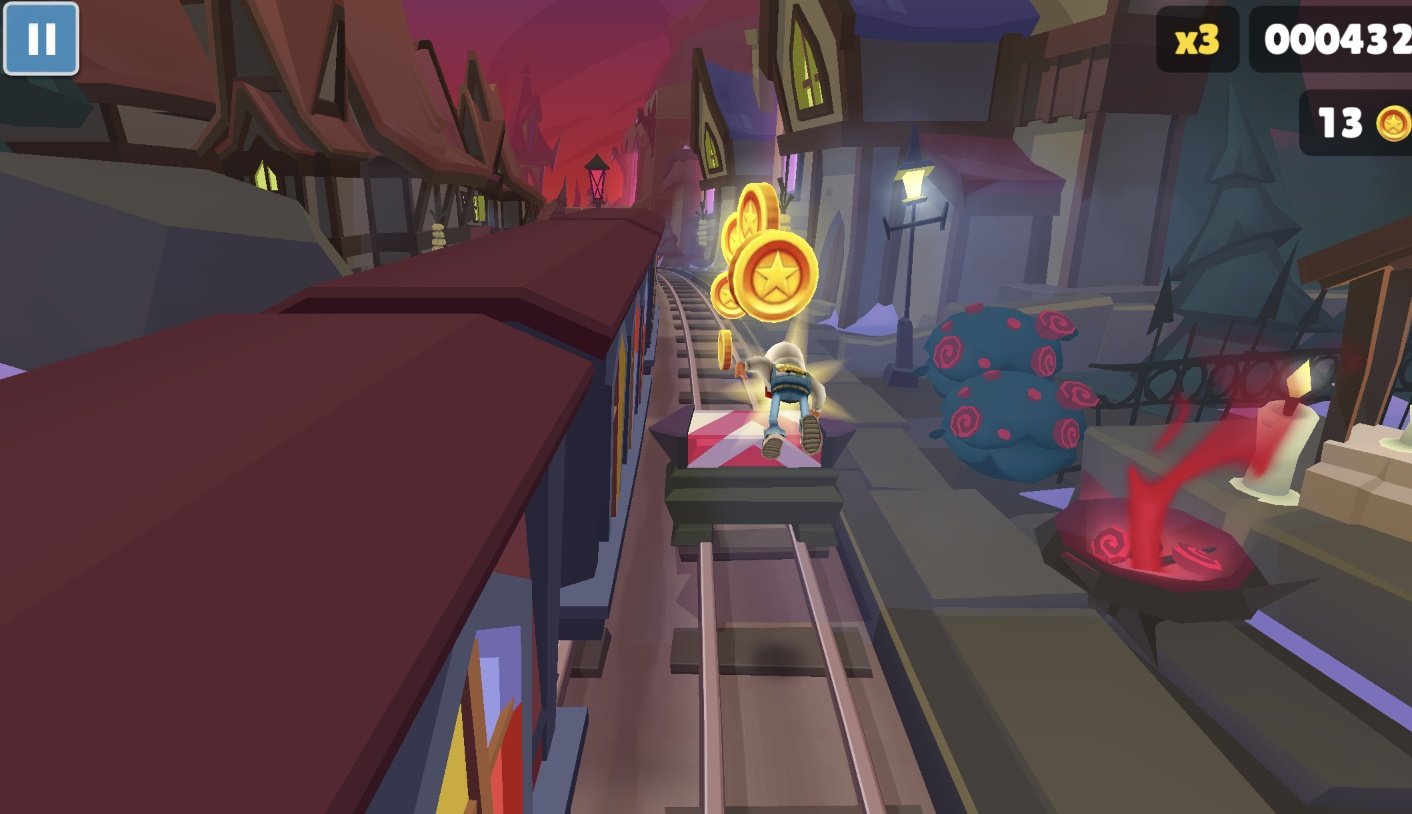ground_barrier: (648, 404, 858, 548)
train: (0, 208, 668, 814)
